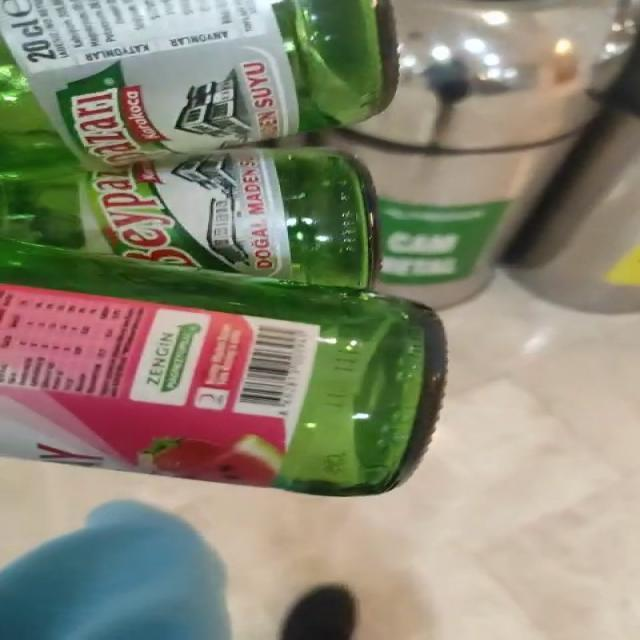Glass: (2, 0, 447, 496)
